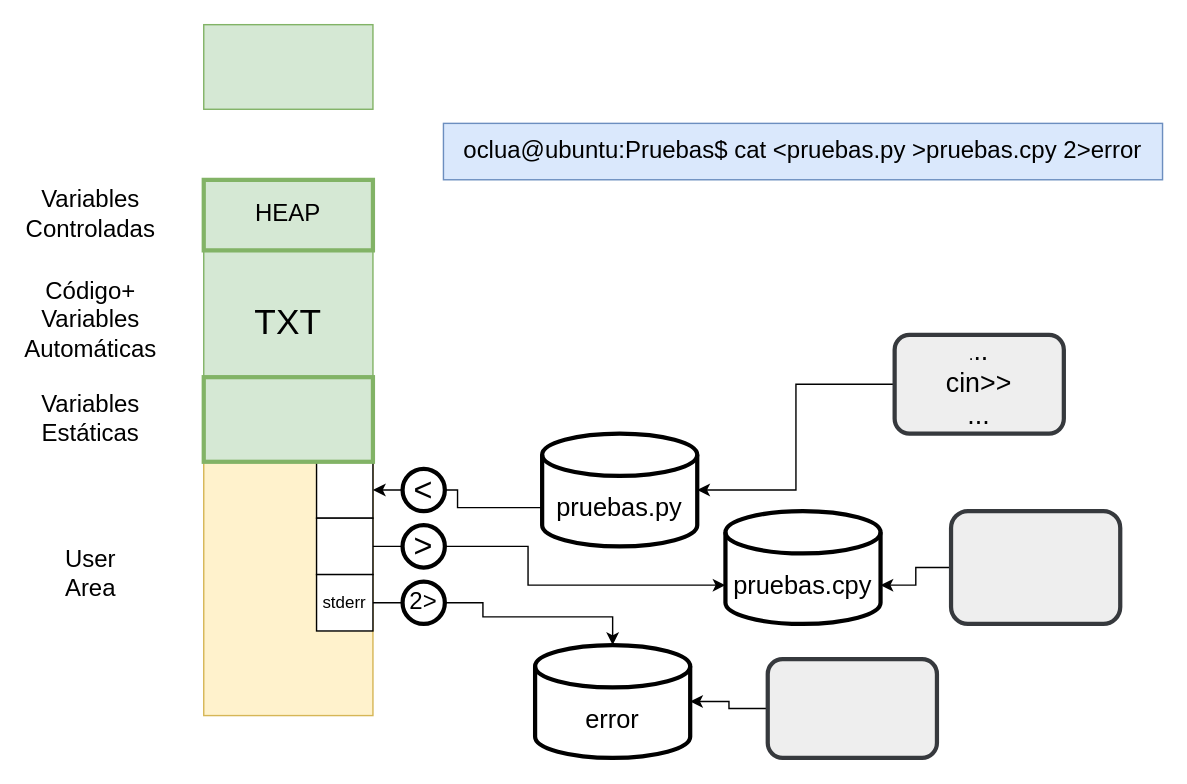
The diagram is 1187 pixels wide and 784 high, and some of its shapes have lost their labels. Here are the shapes that lost their labels. From the top down, the centre of each, then its label:
At point (287, 66): "Proceso".
At point (287, 418): "BSS".
At point (344, 489): "stdin".
At point (344, 546): "stdout".
At point (1035, 566): ". .. cout<< ...".
At point (851, 707): ". .. cerr<< ...".
